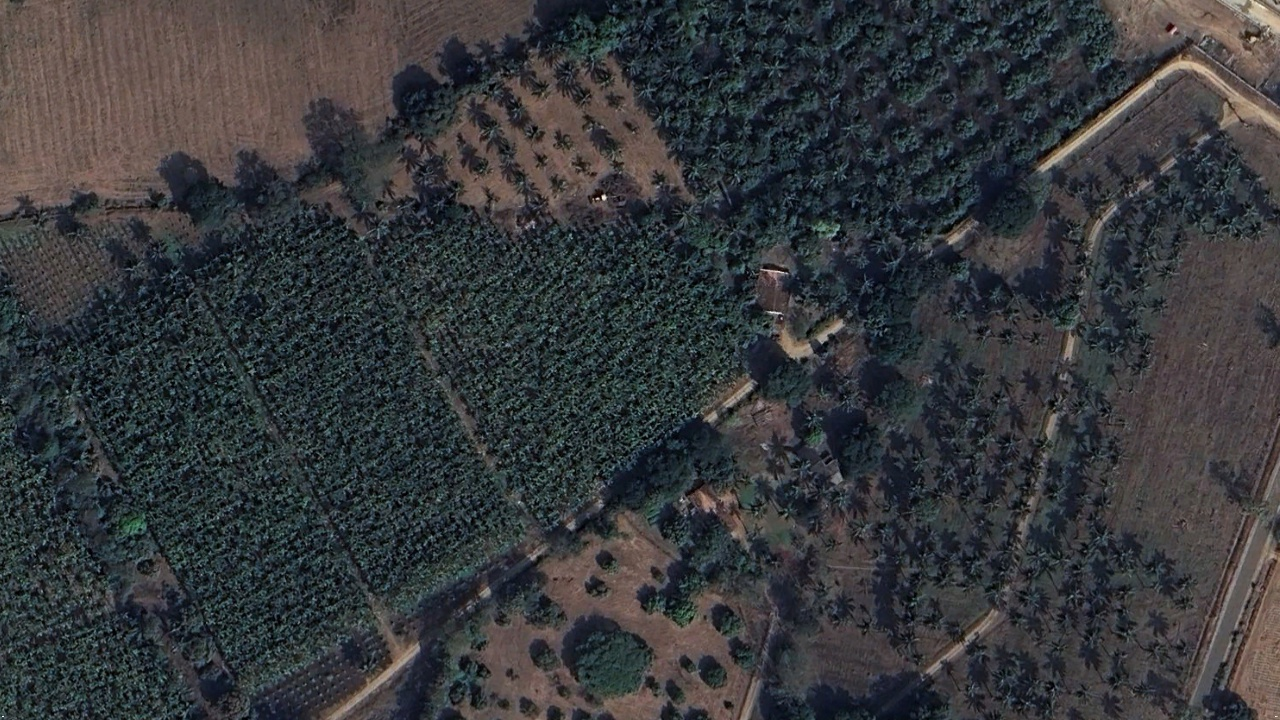arecanut: (3, 203, 744, 712)
